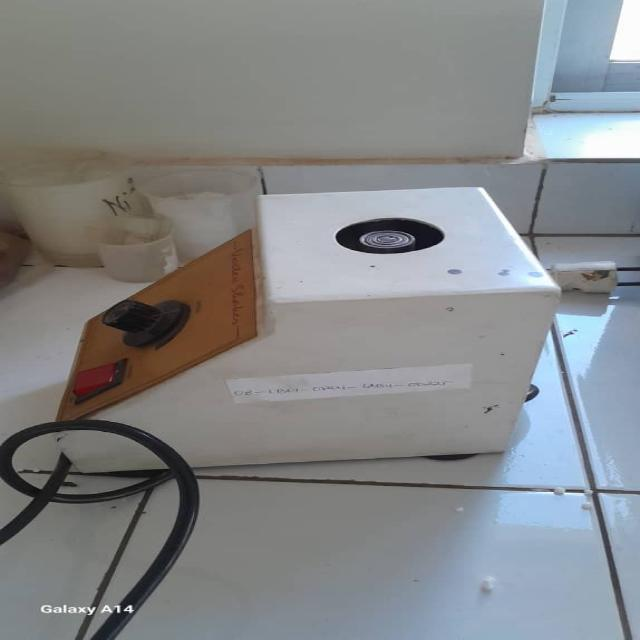Vortex: (41, 182, 564, 462)
